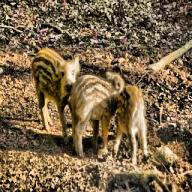boar: (68, 71, 124, 159), (30, 48, 80, 144), (112, 84, 149, 166)
